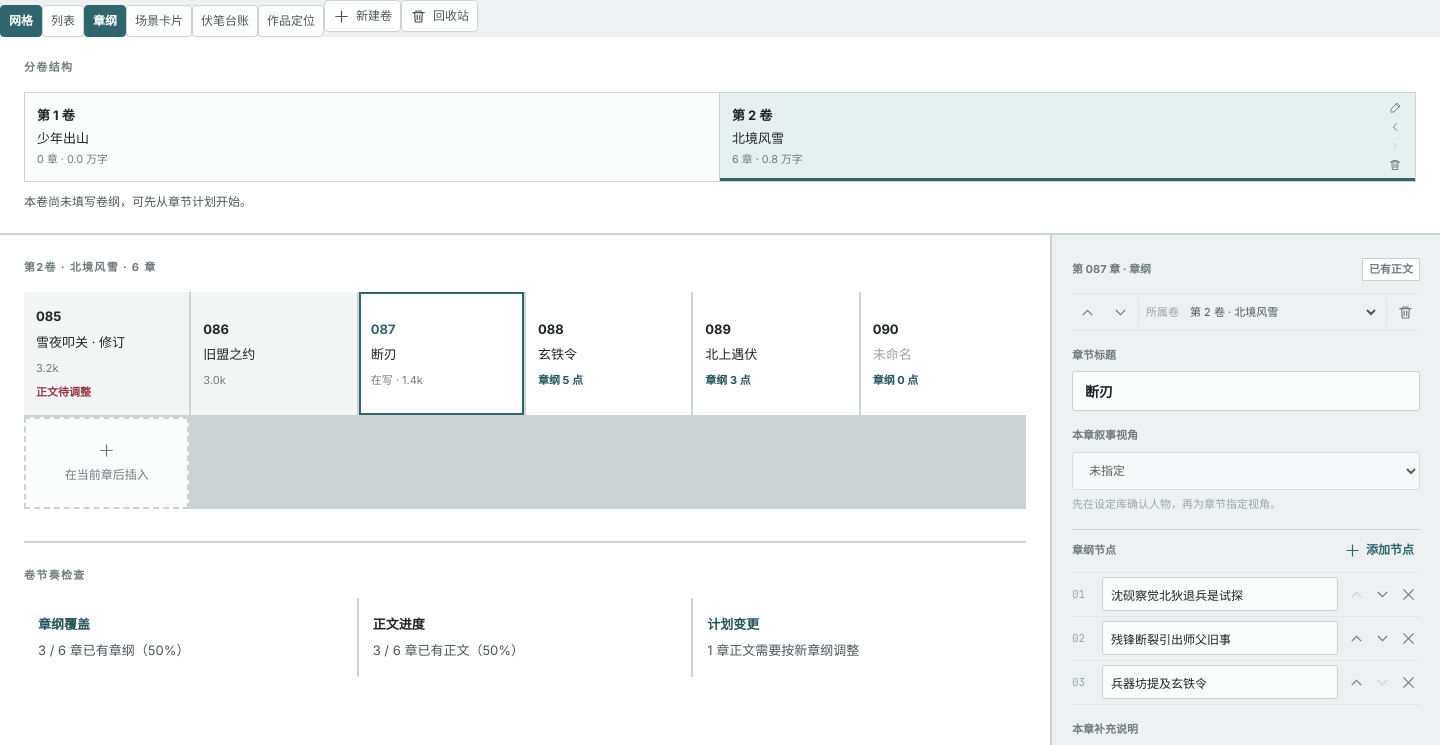
Scenario: continuous outline editing › creates and edits volumes and exposes the recycle bin
Click the button "新建卷": [363, 16] box [324,0,401,32]
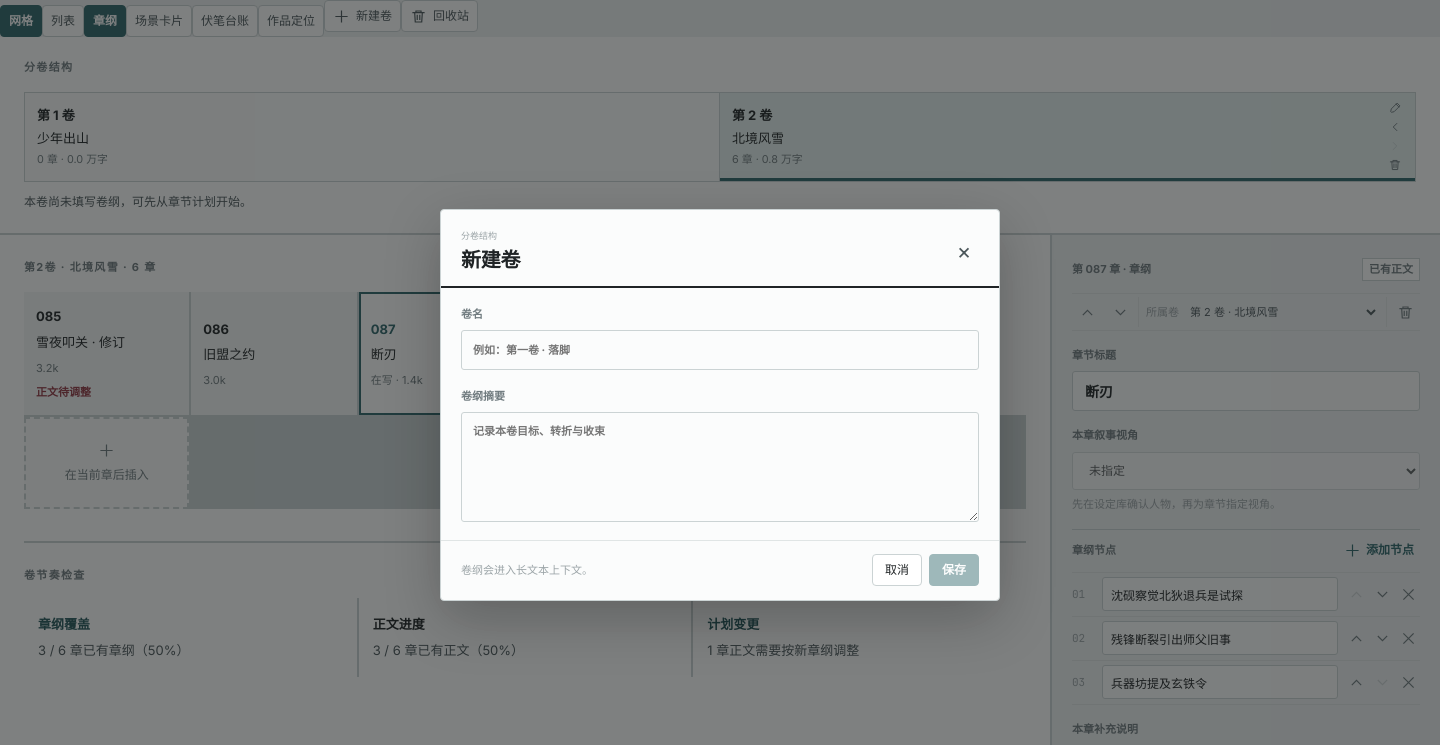
In the field with placeholder "例如：第一卷 · 落脚": [720, 350] box [461,330,979,370], type "终卷 · 归乡"
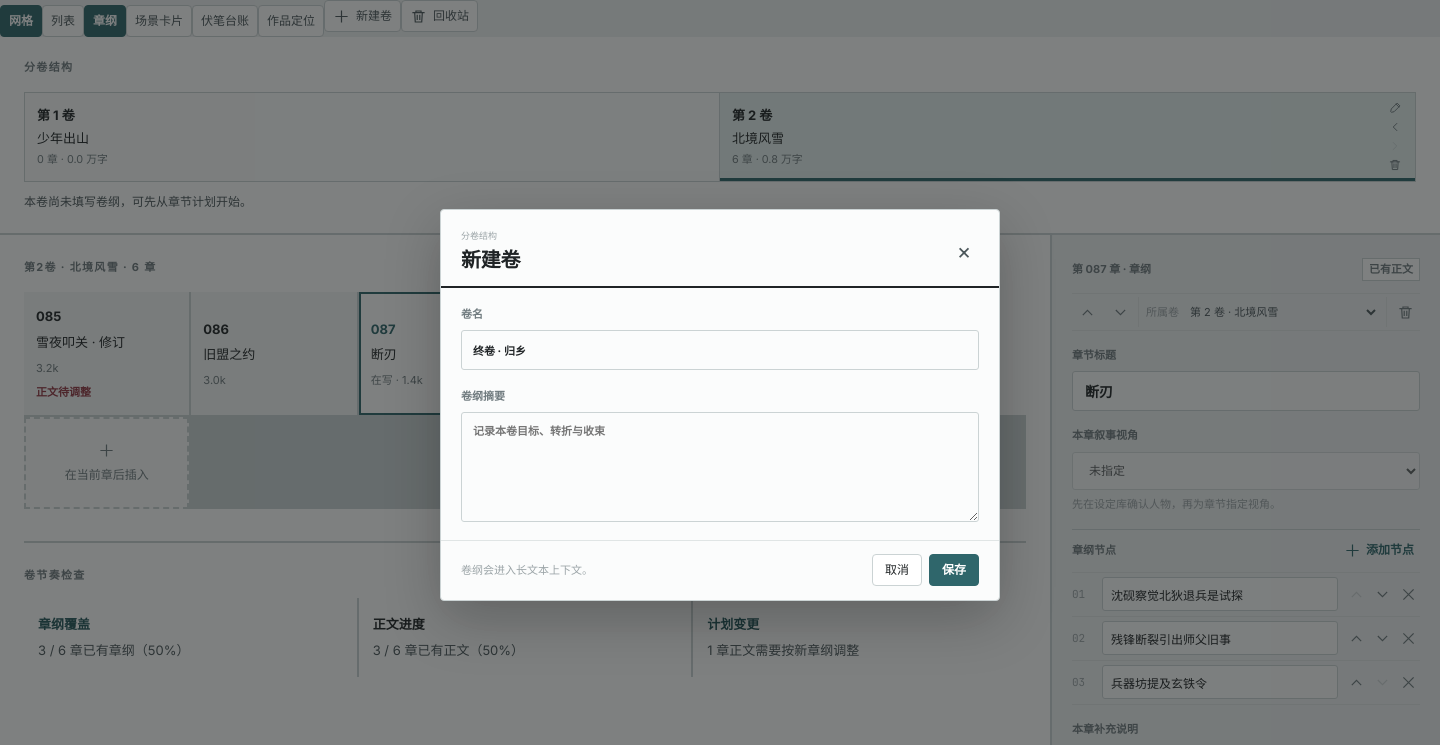
In the text box with placeholder "记录本卷目标、转折与收束": [720, 467] box [461,412,979,522], type "收束主线。"
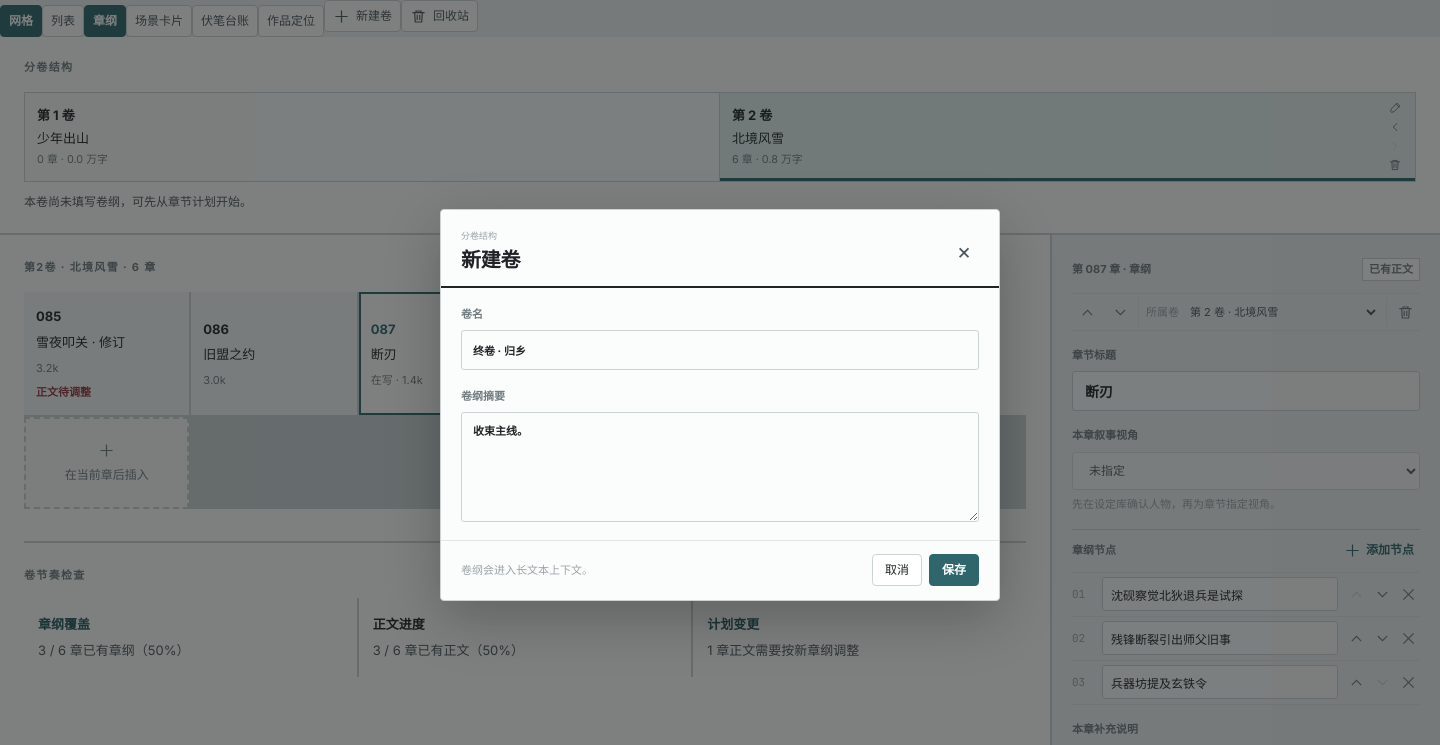
Click the button "保存": [954, 570] box [929,554,979,586]
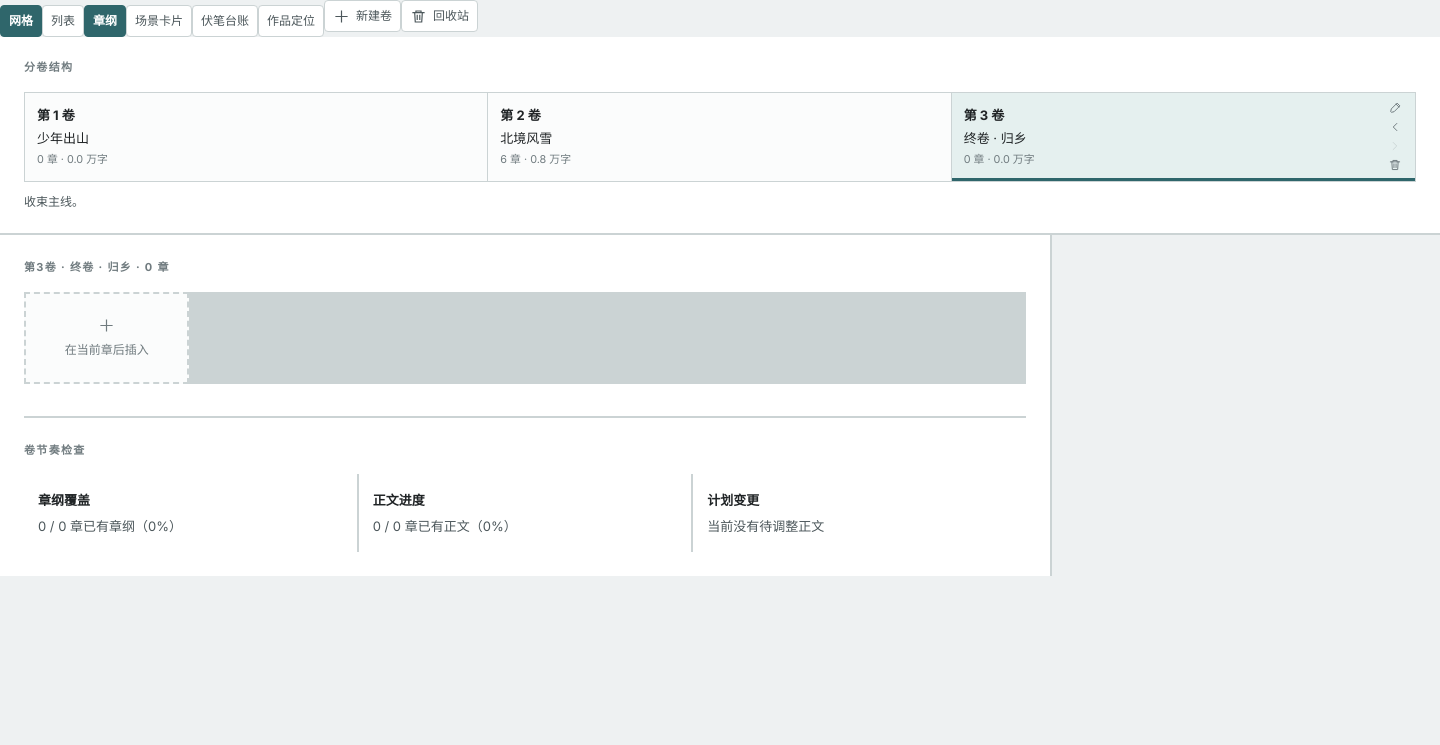
Result: the text "终卷 · 归乡" is shown at [964,130,1027,146]
Click the button "回收站": [440, 16] box [401,0,478,32]
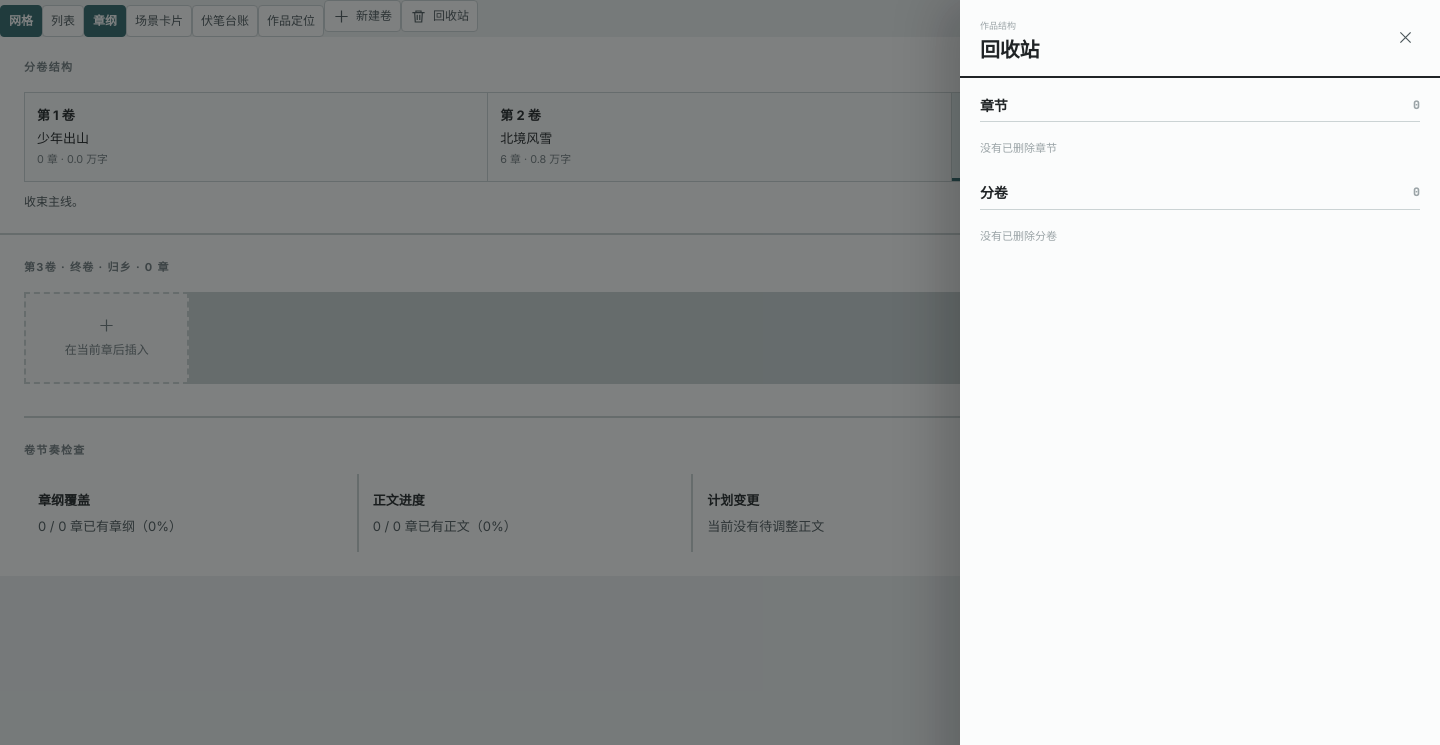
Result: the element named "作品回收站" shows "没有已删除章节" at [980,141,1057,155]
